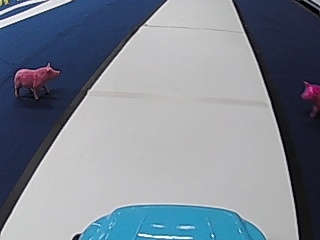pig: (11, 60, 60, 98), (298, 79, 319, 116)
